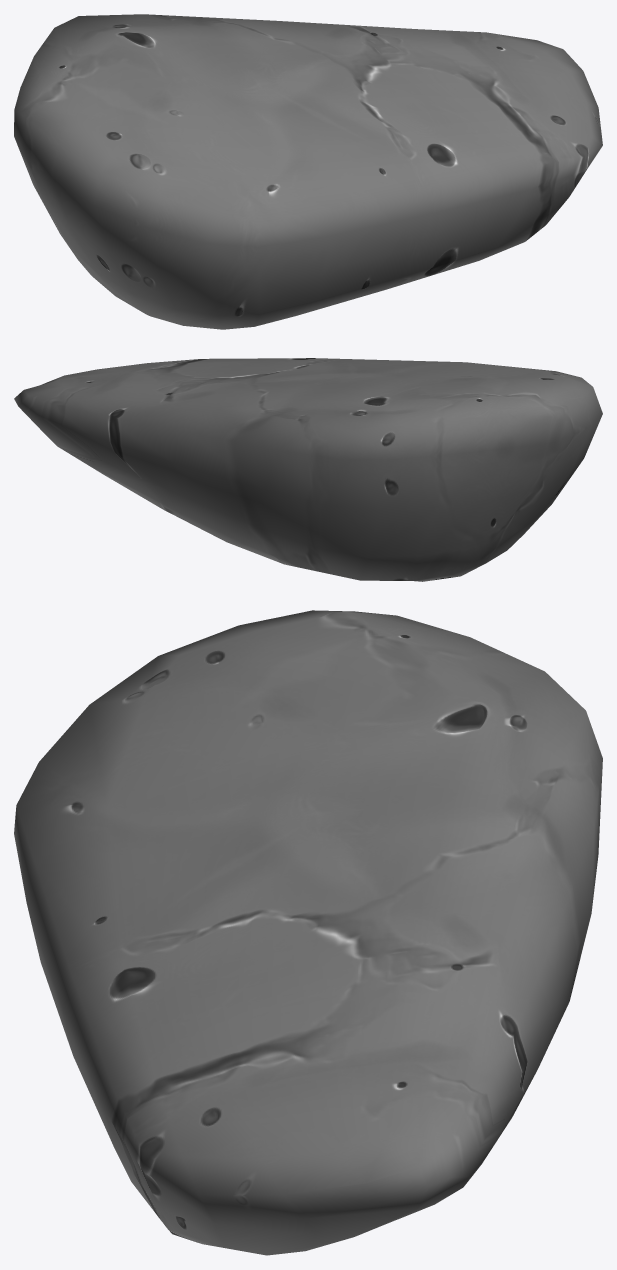
The model's file is SM_ENV_stone_01.fbx.
3 renders of one model, top to bottom at view 1: azimuth 30°, elevation 25°; view 2: azimuth 150°, elevation 25°; view 3: azimuth 270°, elevation 25°, orthographic. The views are drawn at different scales.
Parts seen in each view (by area): view 1: SM_ENV_stone_01_LOD0; view 2: SM_ENV_stone_01_LOD0; view 3: SM_ENV_stone_01_LOD0.
Boxes of the visible parts, box(x1,y1,x2,y2) form: SM_ENV_stone_01_LOD0: box(14, 14, 602, 329); SM_ENV_stone_01_LOD0: box(14, 358, 602, 581); SM_ENV_stone_01_LOD0: box(14, 610, 602, 1255).
Size of what is drawn, in the model's own units: 275 by 101 by 161.
